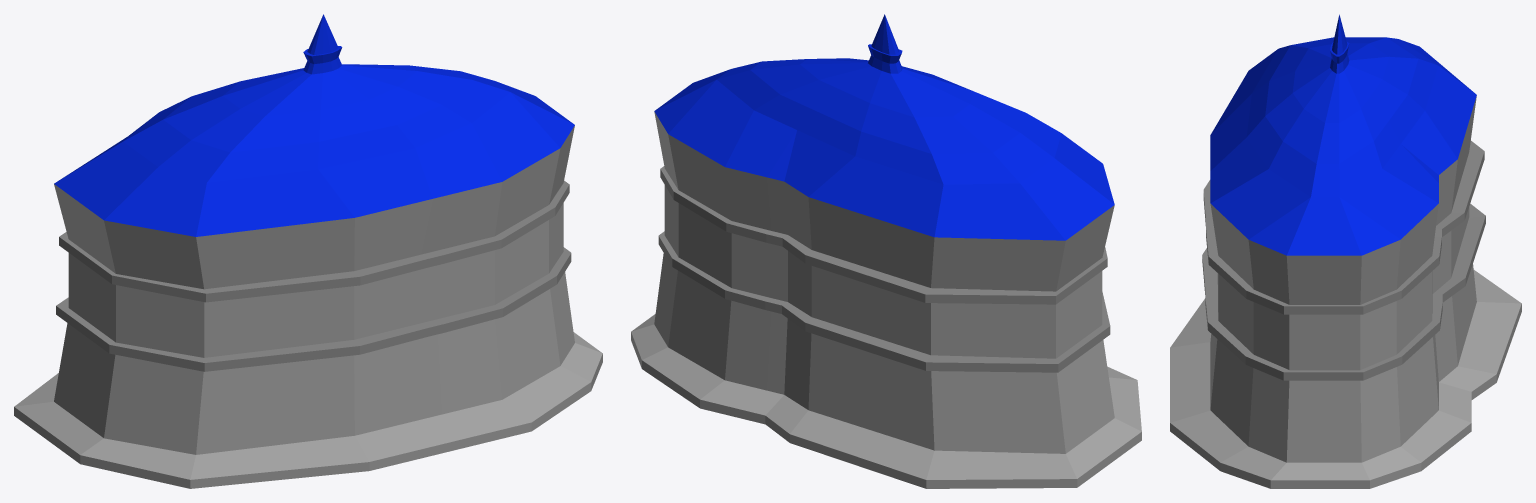
The model's file is p-bld-background-3.glb.
3 views of the same model, side by side, from view 1: azimuth 30°, elevation 25°; view 2: azimuth 150°, elevation 25°; view 3: azimuth 270°, elevation 25° (orthographic). The views are drawn at different scales.
Visible parts, largest first — view 1: Cube; view 2: Cube; view 3: Cube.
Boxes of the visible parts, x1,y1,x2,y2 form: Cube: (14,14,602,488); Cube: (631,14,1141,488); Cube: (1170,14,1521,488).
Size of the model in its own units: 28.6 by 21 by 18.48.
